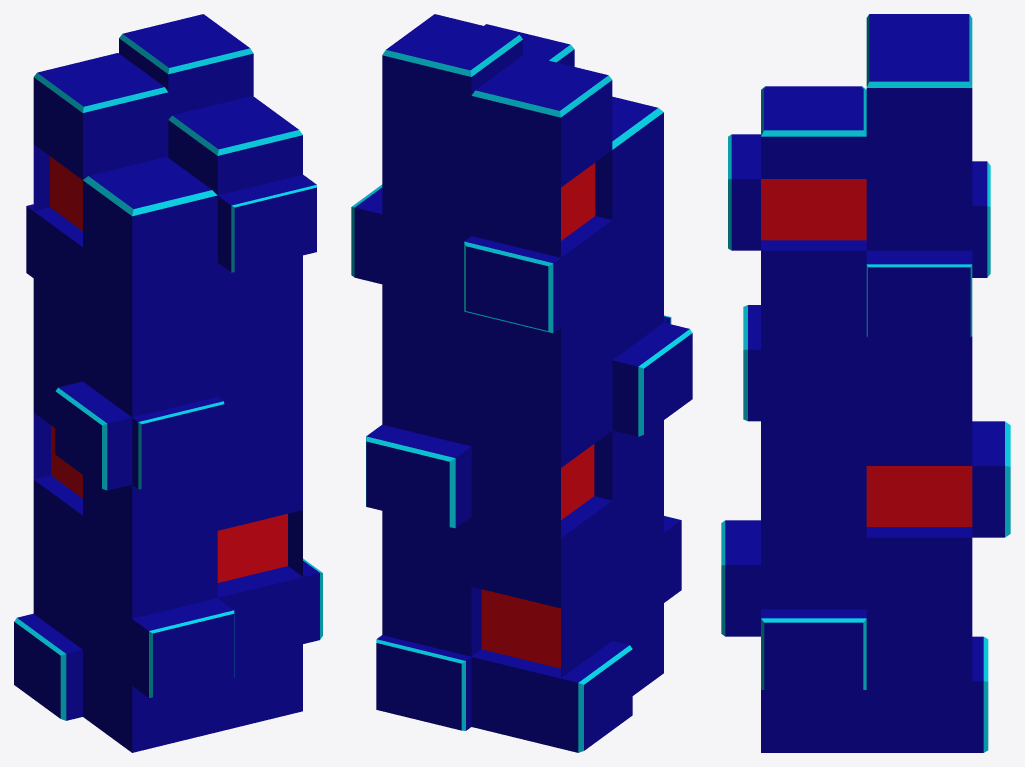
Rendered from tower.fbx.
The picture shows the model from 3 angles, left to right: view 1: azimuth 30°, elevation 25°; view 2: azimuth 150°, elevation 25°; view 3: azimuth 270°, elevation 25°; orthographic projection. The views are drawn at different scales.
Visible parts, largest first — view 1: Cube; view 2: Cube; view 3: Cube.
Boxes of the visible parts, x1=… form: Cube: x1=14, y1=14, x2=322, y2=752; Cube: x1=351, y1=14, x2=692, y2=752; Cube: x1=721, y1=14, x2=1010, y2=752.
Bounding box in the file's own units: 269 × 700 × 274.
